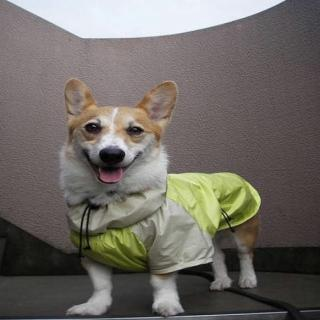dog: (59, 75, 182, 191)
nose: (97, 146, 129, 166)
